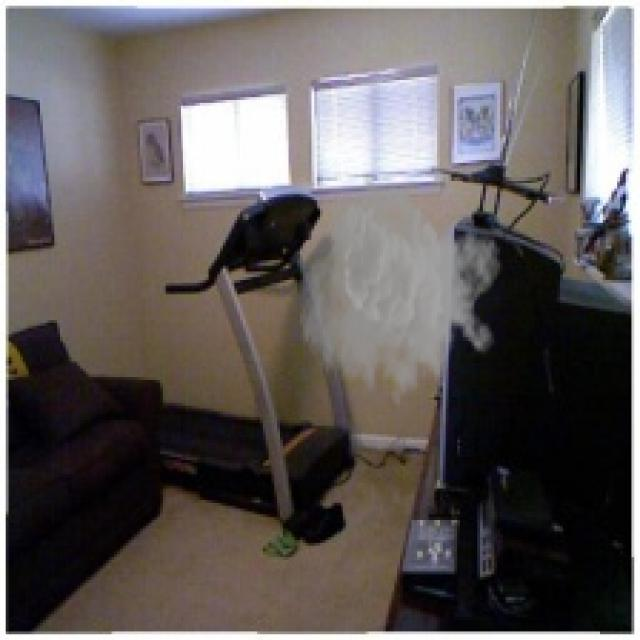smoke: (297, 172, 503, 417)
